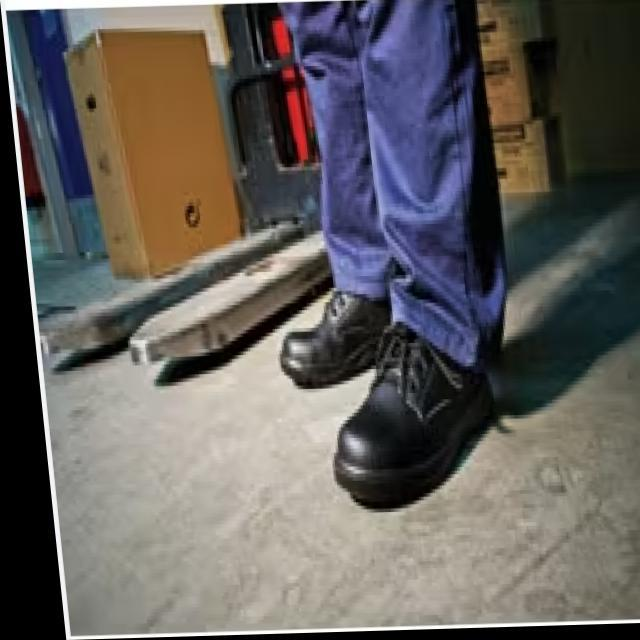helmet: (266, 249, 517, 516)
